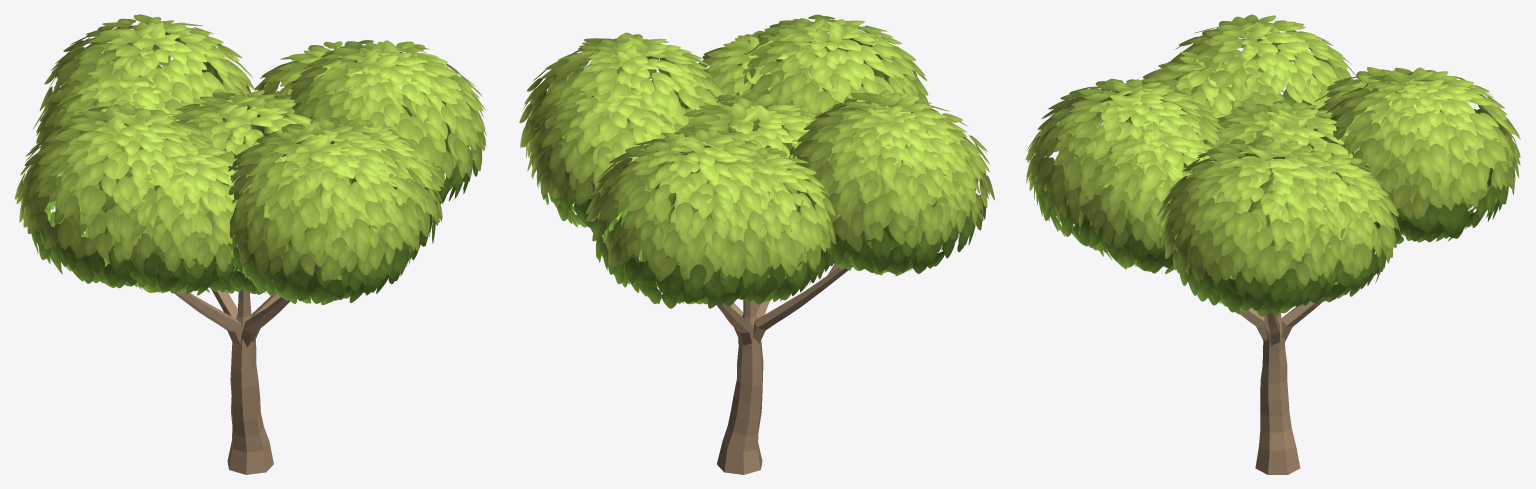
File: tree_broad_lime.glb
The picture shows the model from 3 angles, left to right: view 1: azimuth 30°, elevation 25°; view 2: azimuth 150°, elevation 25°; view 3: azimuth 270°, elevation 25°; orthographic projection. The views are drawn at different scales.
Parts seen in each view (by area): view 1: foliage, trunk; view 2: foliage, trunk; view 3: foliage, trunk.
Boxes of the visible parts, bbox=[...] form: foliage: bbox=[14, 14, 486, 305]; trunk: bbox=[174, 265, 318, 474]; foliage: bbox=[519, 14, 994, 308]; trunk: bbox=[716, 263, 852, 474]; foliage: bbox=[1025, 14, 1520, 316]; trunk: bbox=[1239, 300, 1322, 474].
Bounding box in the file's own units: 6.79 × 5.61 × 6.72.
Materials: 3 (2 with a texture image).
